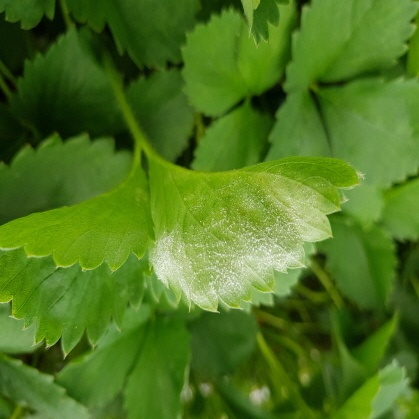Powdery_Leaf: (149, 106, 365, 263)
